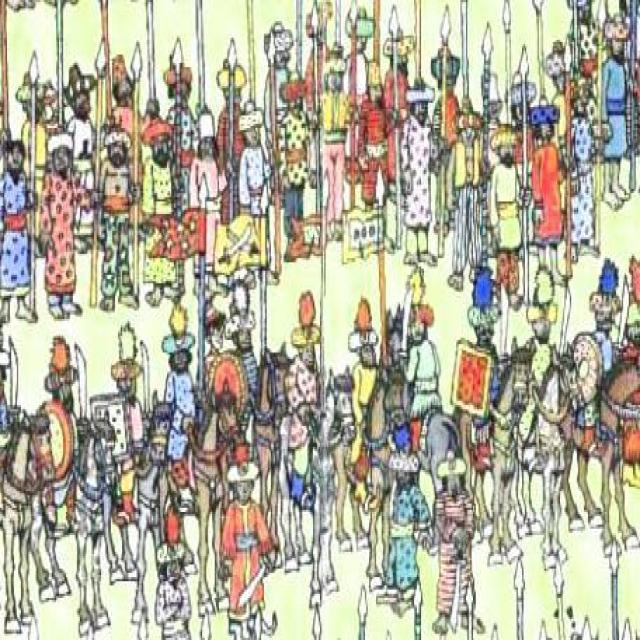waldo: (201, 300, 226, 350)
